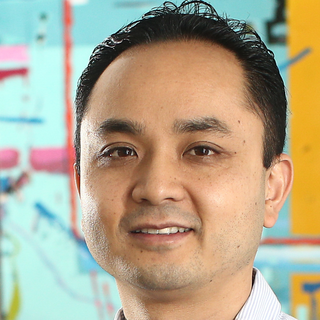eye: (176, 141, 225, 163), (95, 142, 146, 163)
